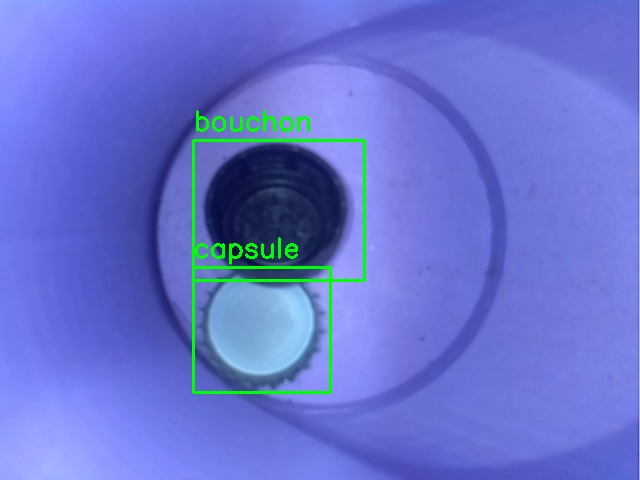bouchon: (193, 140, 364, 280)
capsule: (193, 267, 330, 392)
